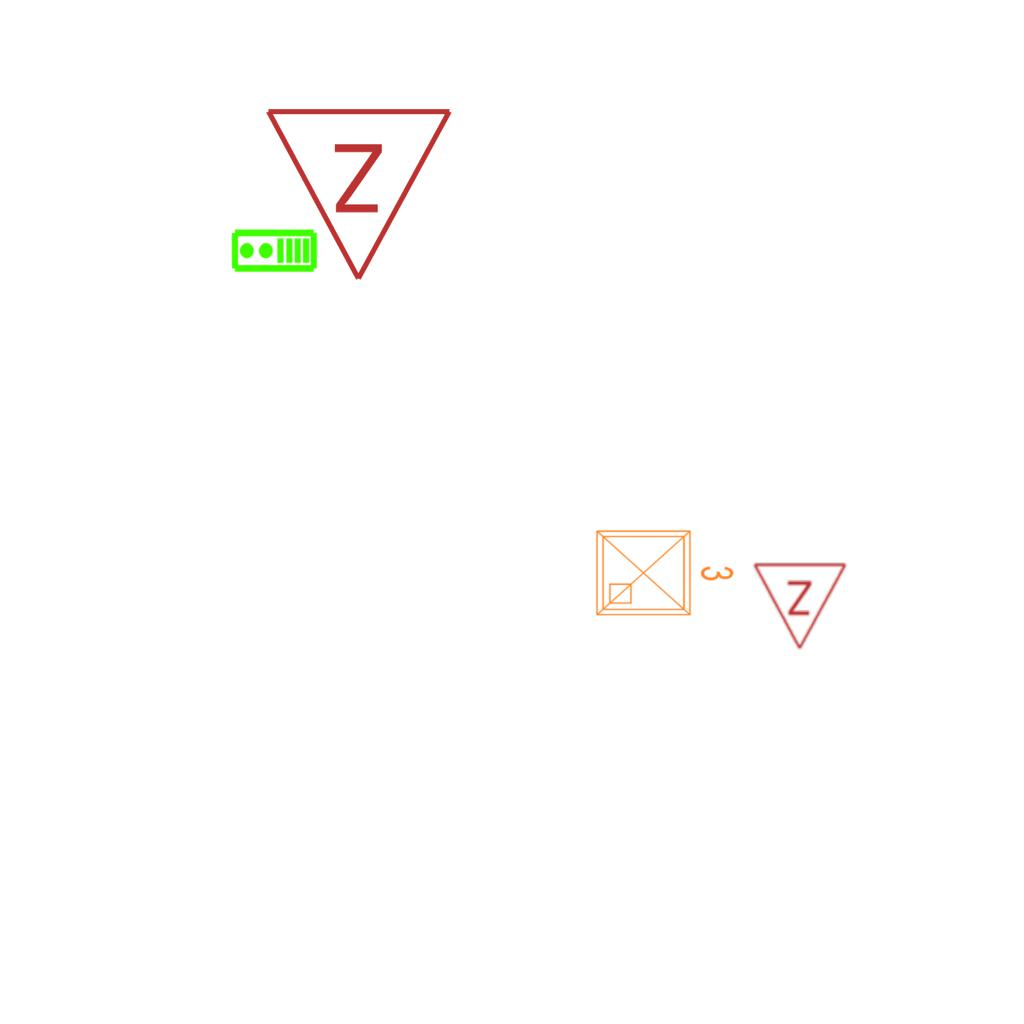Einbaudownlights_LED_Konferenzraeume: (589, 519, 739, 623)
Gegensprechanlage_mit_Video: (230, 228, 318, 275)
Zimmersignalleuchte: (263, 94, 459, 294), (752, 556, 850, 656)
